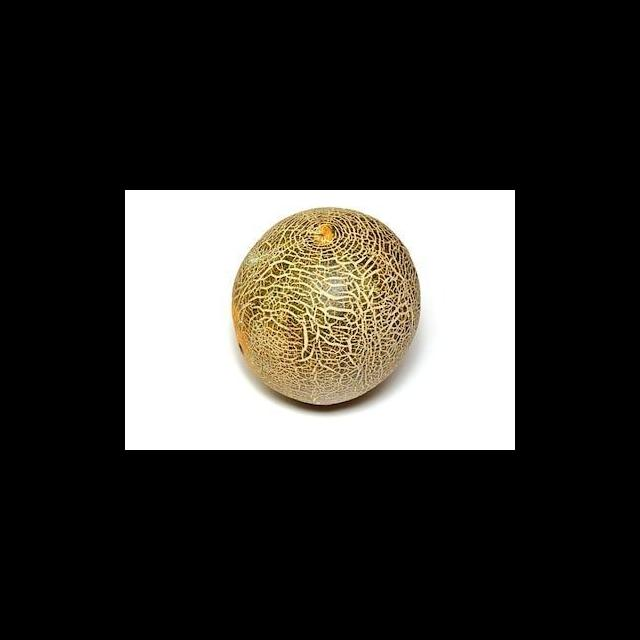Hami Melon: (230, 207, 421, 408)
